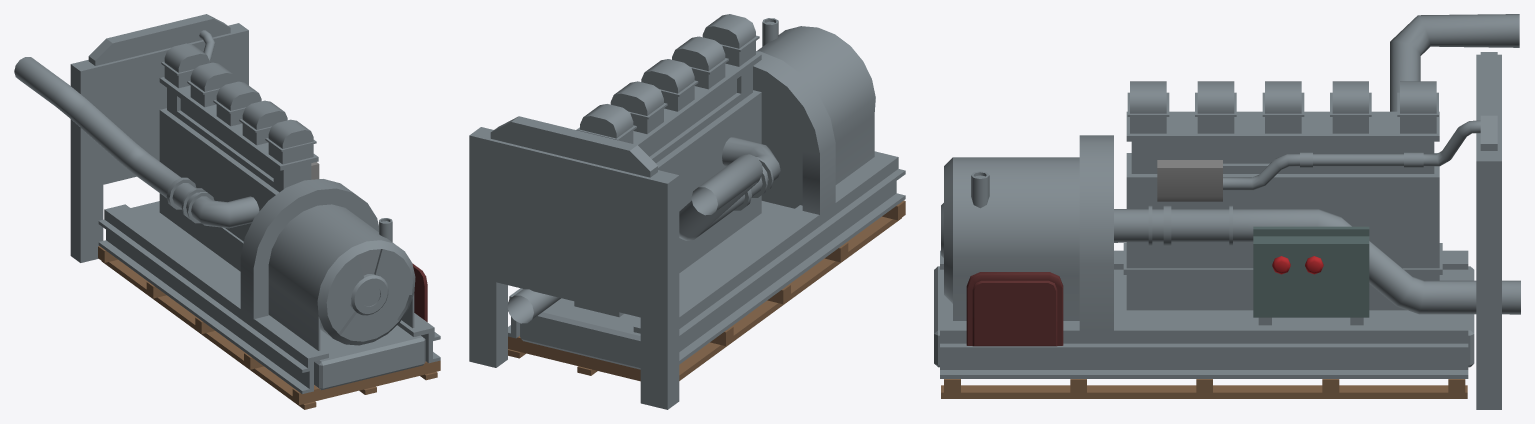
File: Generator.fbx
3 renders of one model, left to right at view 1: azimuth 30°, elevation 25°; view 2: azimuth 150°, elevation 25°; view 3: azimuth 270°, elevation 25°, orthographic. The views are drawn at different scales.
Visible parts, largest first — view 1: Generator_1, Generator_2; view 2: Generator_1, Generator_2; view 3: Generator_1, Generator_2.
Part boxes in pixels (box(x1,y1,x2,y2)): Generator_1: box(14, 14, 440, 394); Generator_2: box(98, 162, 440, 409); Generator_1: box(469, 14, 905, 409); Generator_2: box(508, 200, 905, 381); Generator_1: box(934, 14, 1520, 409); Generator_2: box(941, 160, 1467, 398).
Size of the model in its own units: 170 by 157 by 306.
